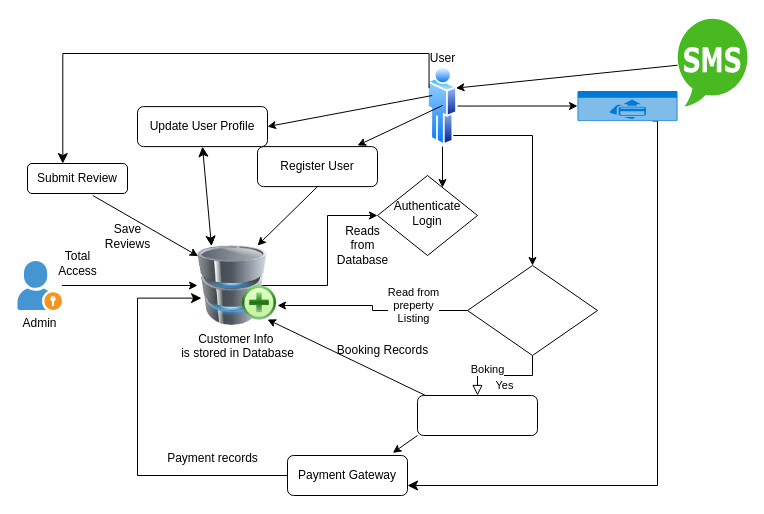
Some shapes in this 764 by 514 pixel diagram are drawn without their labels. Here are the shapes that lost their labels. From the top down, the centre of each, then its label:
At [627,105]: "Payment".
At [532,310]: "Search & View Property".
At [477,415]: "Book Property".
